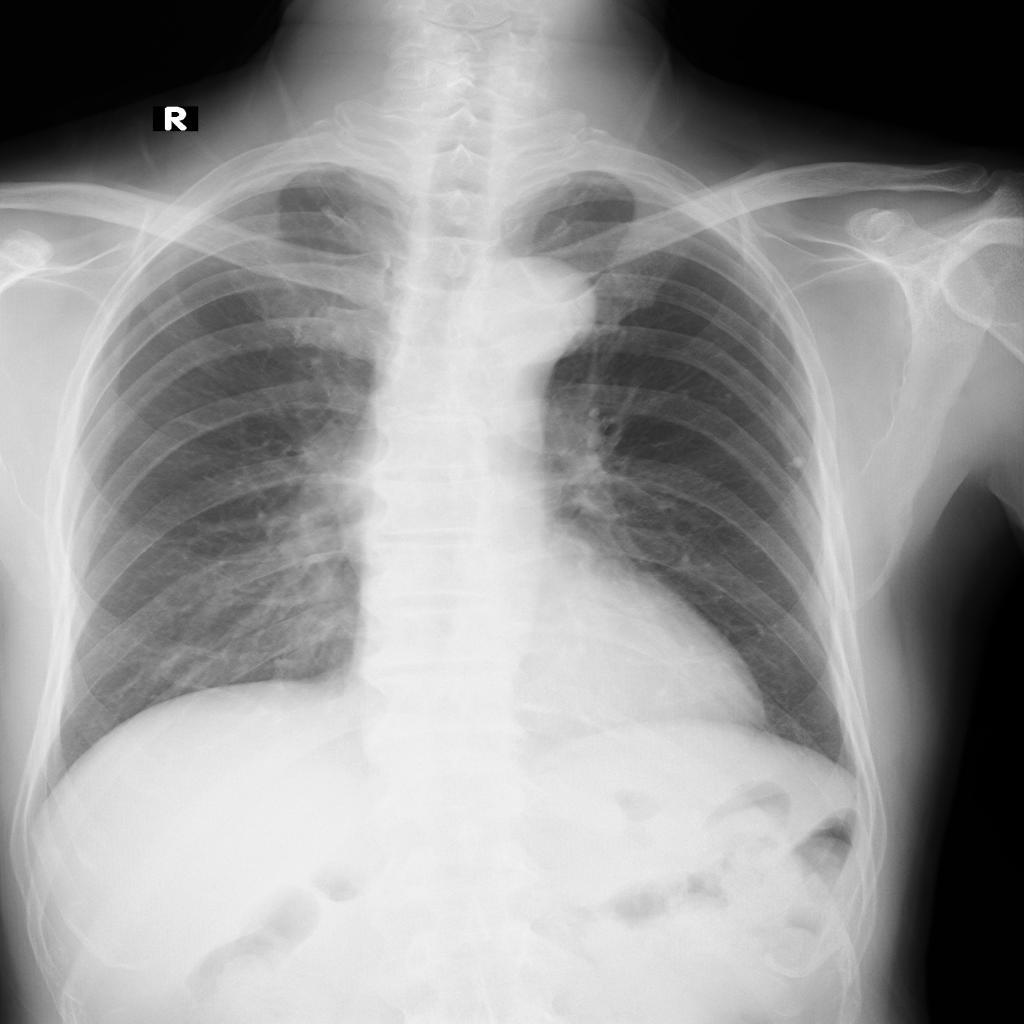Nodule: (789, 457, 808, 473)
